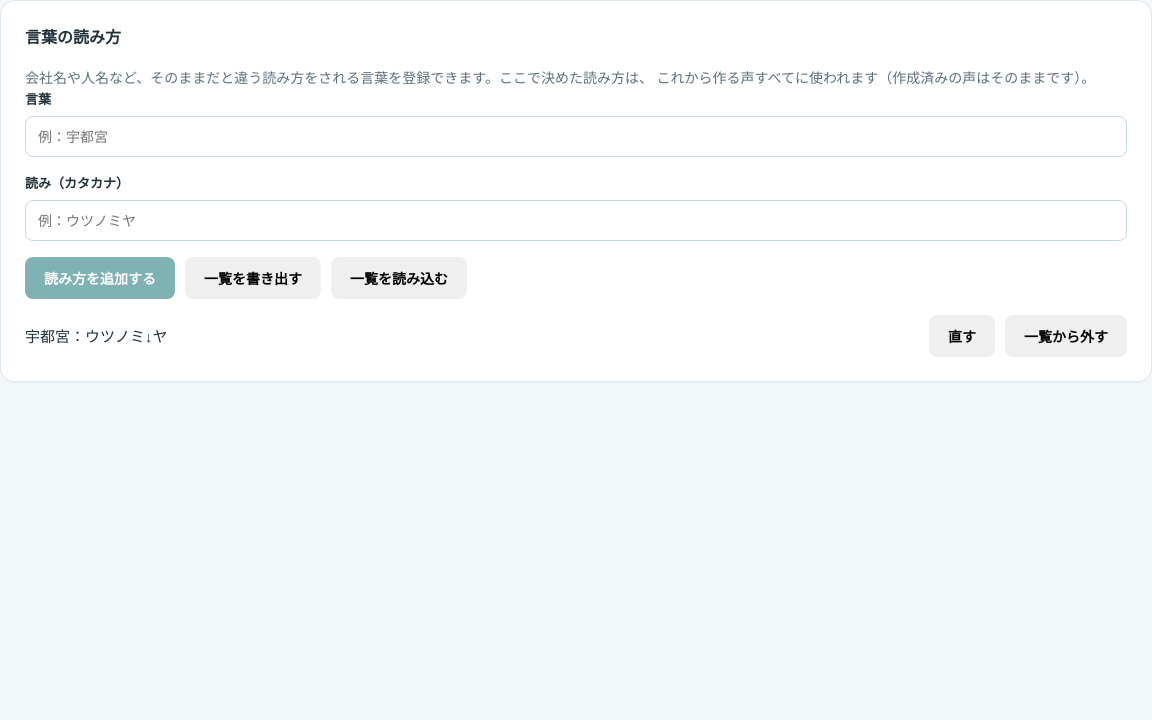
Test: ReadingDictSection › 読み込みで重なった語は上書きせず、選ばせる
Expected: the text "宇都宮：ウツノミ↓ヤ" is shown, [25,326,168,346]
Click the button "一覧を読み込む".
click(399, 278)  # box [331,257,467,299]
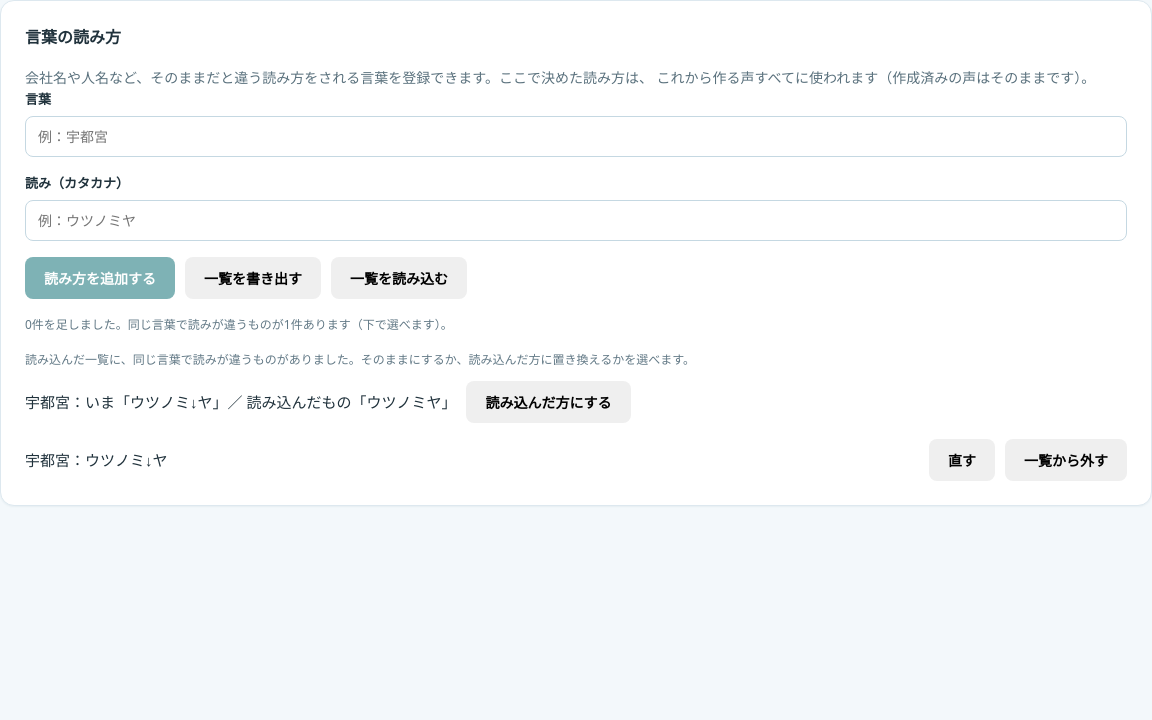
Expected: the button "読み込んだ方にする" is shown, [466,381,631,423]
